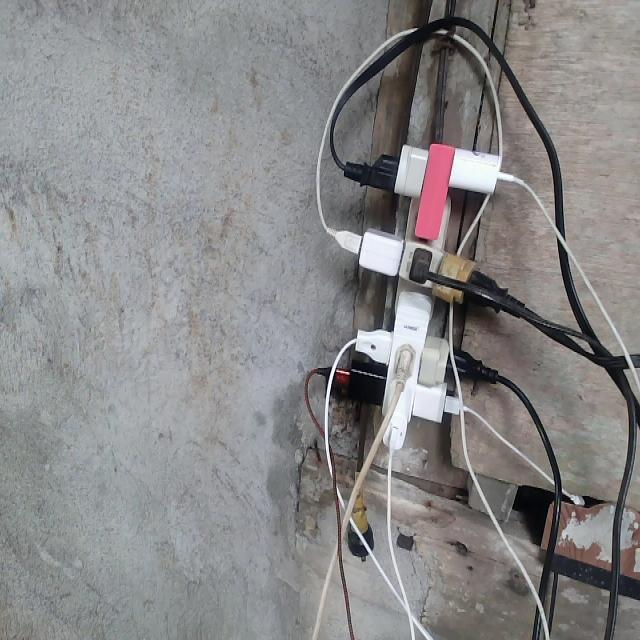-: (342, 133, 509, 451)
